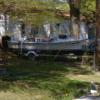Boat: (7, 19, 100, 63)
